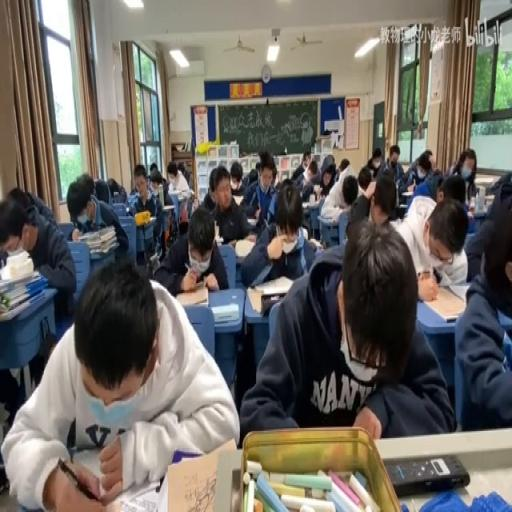calculator: (164, 439, 238, 512), (114, 476, 162, 512), (422, 284, 467, 322), (245, 279, 293, 314), (0, 264, 38, 294), (175, 283, 208, 307), (210, 301, 238, 323), (234, 236, 258, 258), (318, 206, 341, 224), (306, 235, 322, 250), (149, 250, 158, 272), (306, 195, 322, 206), (230, 193, 244, 205), (213, 222, 221, 243), (484, 194, 494, 208), (246, 215, 258, 226), (402, 186, 414, 195), (397, 202, 407, 212), (302, 199, 310, 209), (162, 204, 174, 210)
paper: (4, 256, 237, 509), (238, 216, 446, 441), (455, 202, 512, 429), (0, 189, 76, 329), (395, 193, 469, 296), (152, 205, 226, 294), (67, 174, 130, 268), (208, 164, 253, 244), (128, 162, 162, 253), (341, 165, 375, 226), (166, 160, 192, 230), (401, 149, 435, 199), (371, 172, 397, 219), (485, 176, 512, 217), (291, 155, 316, 196), (314, 158, 338, 199), (382, 142, 403, 185), (438, 173, 466, 205), (364, 146, 383, 178), (8, 186, 30, 212), (106, 176, 126, 202), (85, 175, 95, 200), (246, 166, 258, 186), (466, 179, 476, 202), (338, 156, 350, 174), (207, 175, 216, 199), (446, 158, 458, 176), (127, 191, 139, 206), (177, 161, 185, 176), (148, 162, 158, 174), (254, 160, 262, 174), (304, 151, 310, 168), (423, 154, 432, 165), (272, 171, 278, 186), (318, 182, 326, 193), (334, 165, 339, 179), (145, 175, 150, 189)
person: (386, 452, 470, 496), (432, 266, 442, 282)
